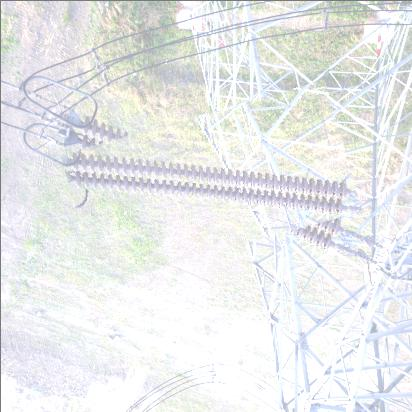insulator: (68, 98, 356, 270)
